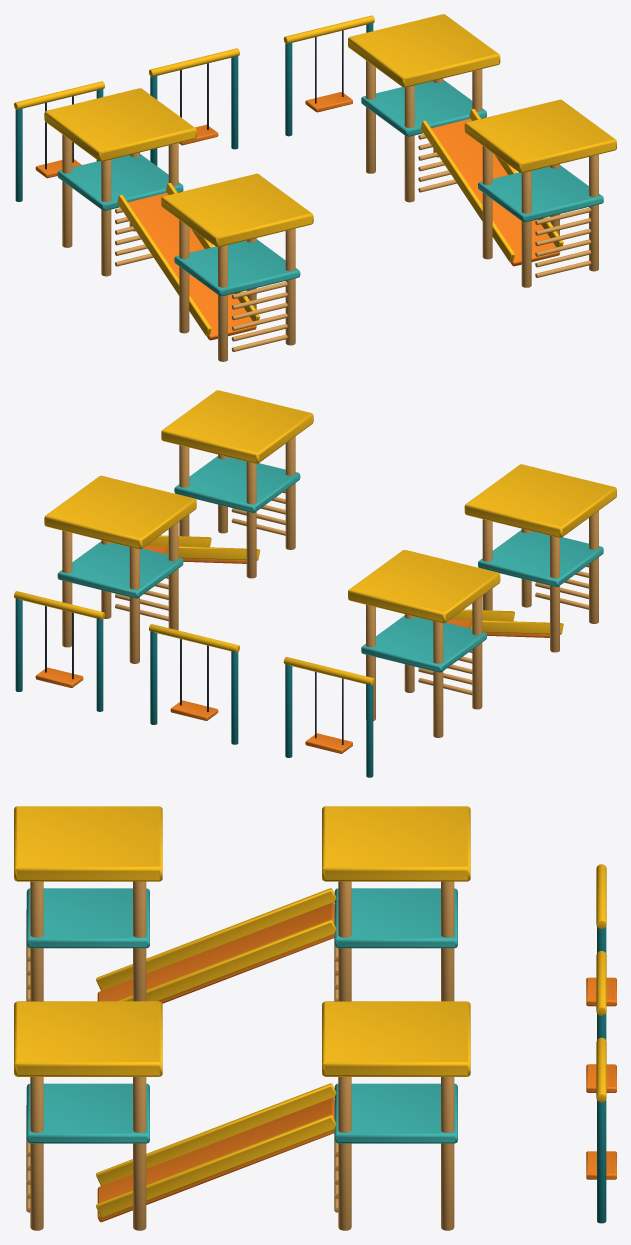
Rendered from project_1.glb.
The picture shows the model from 3 angles, top to bottom: view 1: azimuth 30°, elevation 25°; view 2: azimuth 150°, elevation 25°; view 3: azimuth 270°, elevation 25°; orthographic projection. The views are drawn at different scales.
Visible parts, largest first — view 1: canopy.001, canopy.003, canopy, canopy.002, ladder rung.021, ladder rung.015, play deck.003, play deck.002, slide.001, slide, play deck, play deck.001 (+11 smaller); view 2: canopy.003, canopy.001, canopy.002, canopy, ladder rung.009, ladder rung.003, play deck, play deck.003, ladder rung.021, play deck.001, play deck.002, ladder rung.015 (+11 smaller); view 3: canopy.001, canopy, canopy.002, canopy.003, slide rail.002, slide rail, play deck.002, play deck.003, play deck, play deck.001, slide.001, slide (+11 smaller).
Part boxes in pixels (left/top/right/bottom): canopy.001: left=348, top=14, right=500, bottom=87; canopy.003: left=464, top=99, right=616, bottom=173; canopy: left=44, top=88, right=196, bottom=161; canopy.002: left=161, top=173, right=313, bottom=247; ladder rung.021: left=482, top=146, right=598, bottom=287; ladder rung.015: left=179, top=220, right=295, bottom=361; play deck.003: left=478, top=165, right=603, bottom=222; play deck.002: left=174, top=239, right=300, bottom=296; slide.001: left=431, top=118, right=560, bottom=266; slide: left=128, top=193, right=256, bottom=340; play deck: left=57, top=154, right=183, bottom=210; play deck.001: left=361, top=80, right=486, bottom=136; canopy.003: left=161, top=390, right=313, bottom=463; canopy.001: left=44, top=475, right=196, bottom=549; canopy.002: left=464, top=464, right=616, bottom=537; canopy: left=348, top=550, right=500, bottom=623; ladder rung.009: left=62, top=522, right=178, bottom=663; ladder rung.003: left=366, top=596, right=482, bottom=737; play deck: left=361, top=615, right=486, bottom=672; play deck.003: left=174, top=456, right=300, bottom=512; ladder rung.021: left=179, top=436, right=295, bottom=578; play deck.001: left=57, top=541, right=183, bottom=598; play deck.002: left=478, top=530, right=603, bottom=586; ladder rung.015: left=482, top=511, right=598, bottom=652; canopy.001: left=322, top=1001, right=470, bottom=1076; canopy: left=322, top=806, right=470, bottom=881; canopy.002: left=14, top=806, right=162, bottom=881; canopy.003: left=14, top=1001, right=162, bottom=1076; slide rail.002: left=96, top=1083, right=336, bottom=1218; slide rail: left=96, top=888, right=336, bottom=1001; play deck.002: left=26, top=888, right=149, bottom=948; play deck.003: left=26, top=1083, right=149, bottom=1143; play deck: left=334, top=888, right=457, bottom=948; play deck.001: left=334, top=1083, right=457, bottom=1143; slide.001: left=97, top=1098, right=334, bottom=1222; slide: left=97, top=903, right=334, bottom=1003.
Bounding box in the file's own units: 11.9 × 3.79 × 11.75.
